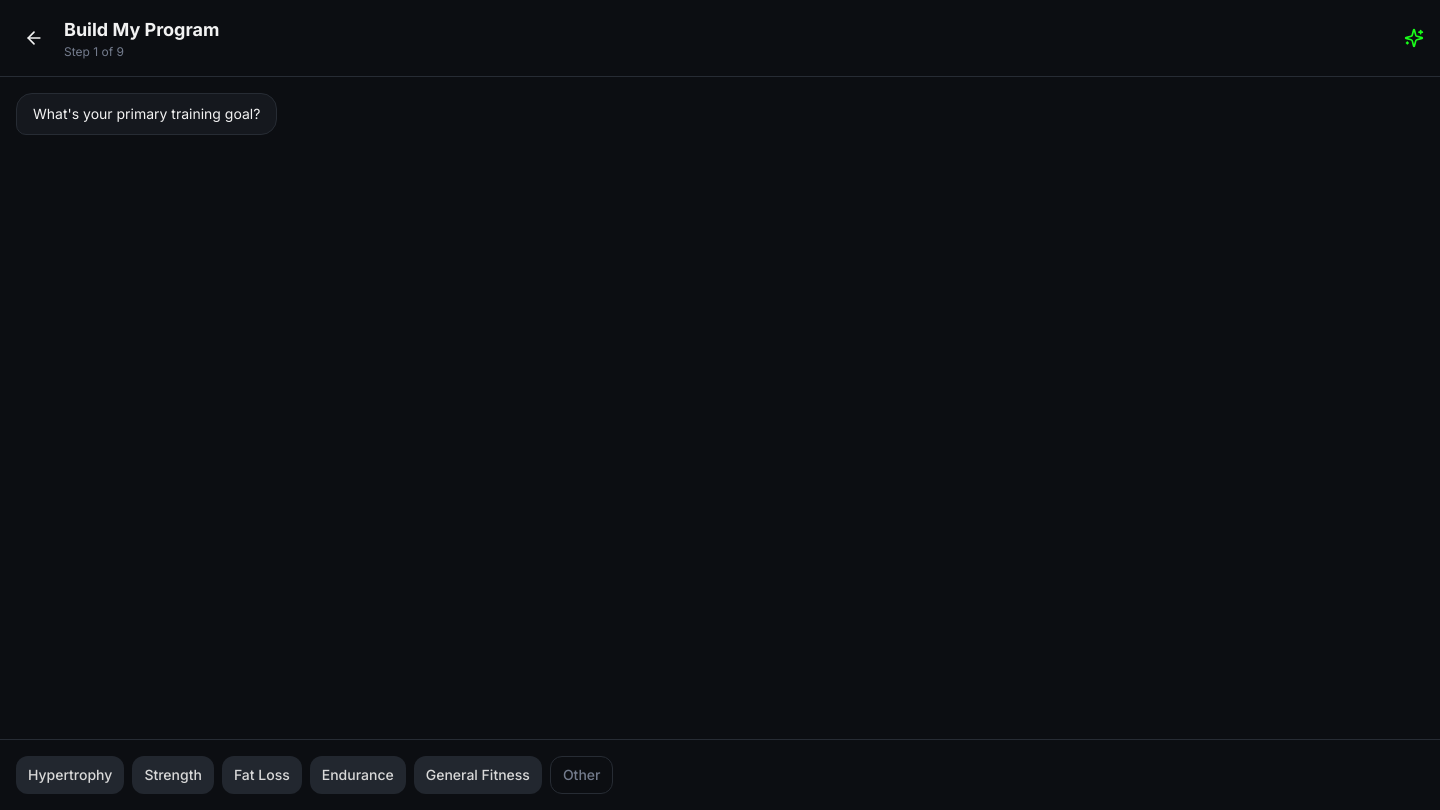
Test case: AIProgramBuilder draft caching › resumes at the same step with earlier answers after leaving and coming back
The width and height of the screenshot is (1440, 810).
Later steps or results of the test are not shown.
Check: the text "What's your primary training goal?" is shown, box top-left (33, 104), bottom-right (260, 124)
Click the button "Hypertrophy" at x=70, y=775, box top-left (16, 756), bottom-right (124, 794)
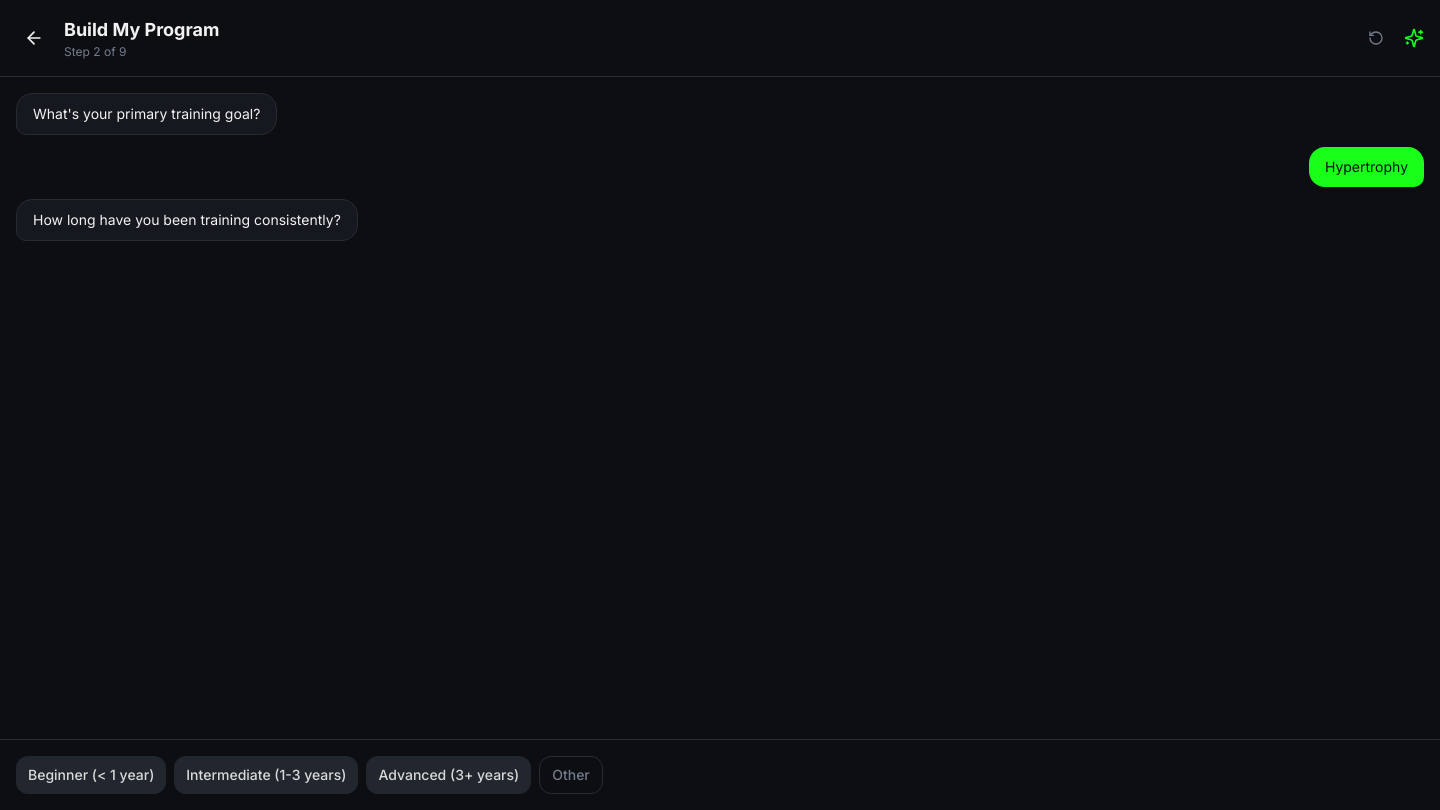
Check: the text "How long have you been training consistently?" is shown, box top-left (33, 210), bottom-right (341, 230)
